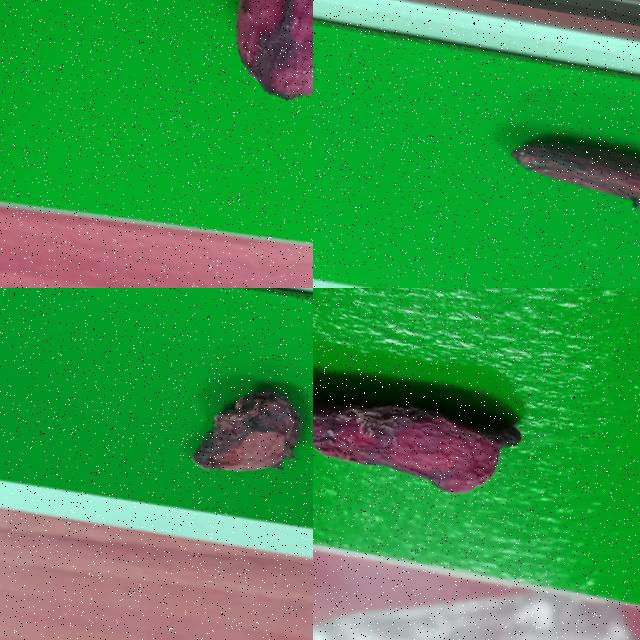Fine_cocoabeans: (153, 0, 312, 142)
Flat_cocoabeans: (313, 305, 639, 560), (419, 59, 639, 243), (139, 325, 312, 518)
